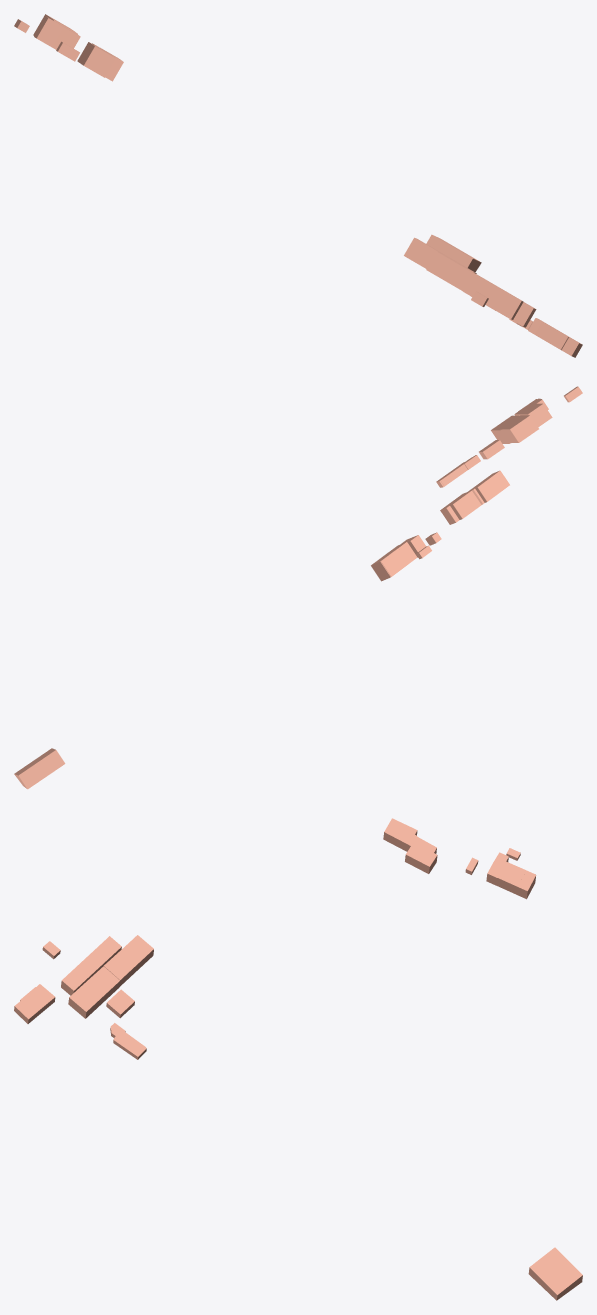
The picture shows the model from 3 angles, top to bottom: view 1: azimuth 30°, elevation 25°; view 2: azimuth 150°, elevation 25°; view 3: azimuth 270°, elevation 25°; orthographic projection. The views are drawn at different scales.
Size of the model in its own units: 183 by 149 by 246.
